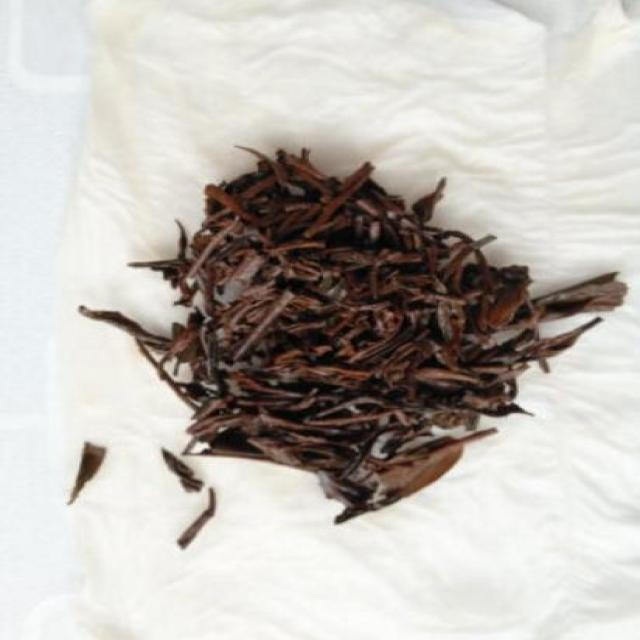organic: (85, 146, 624, 527)
